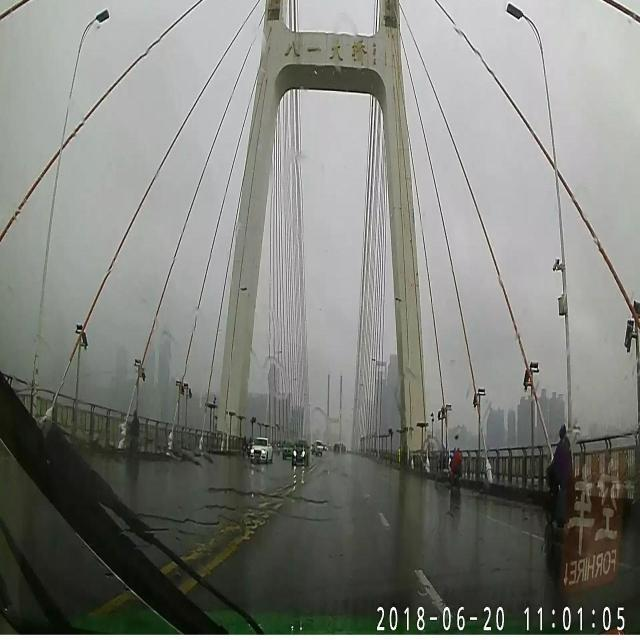car: (248, 436, 274, 466), (290, 438, 310, 466), (312, 440, 326, 456)
